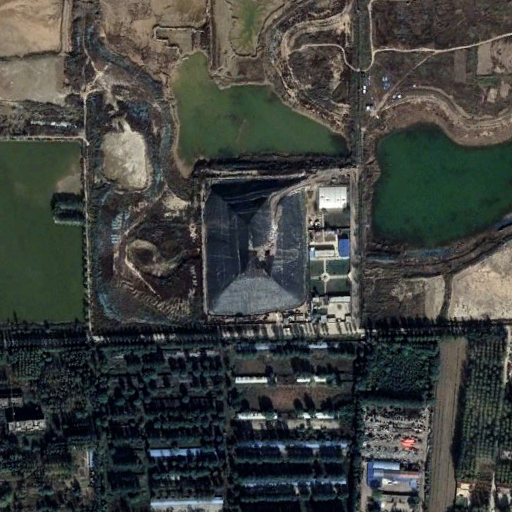lf: (203, 179, 308, 322)
